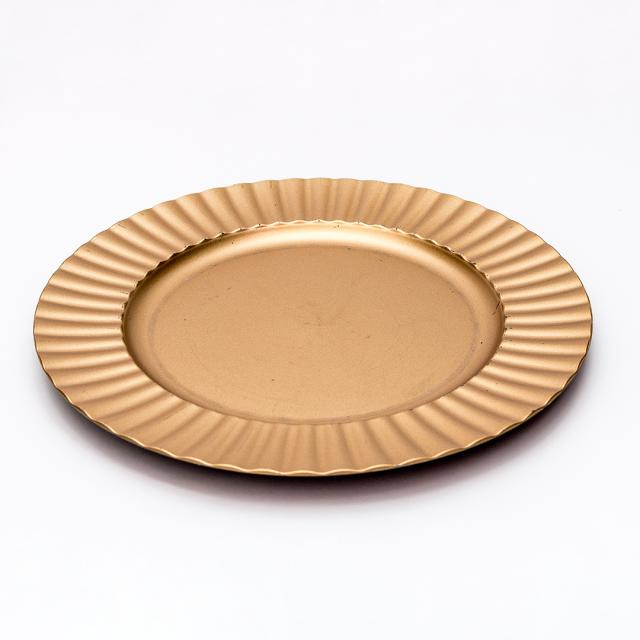non-organic waste: (39, 140, 598, 498)
